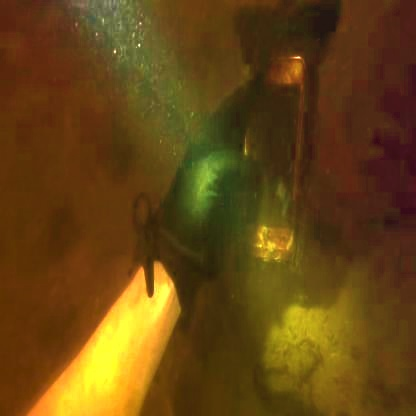cellphone: (239, 56, 306, 260)
